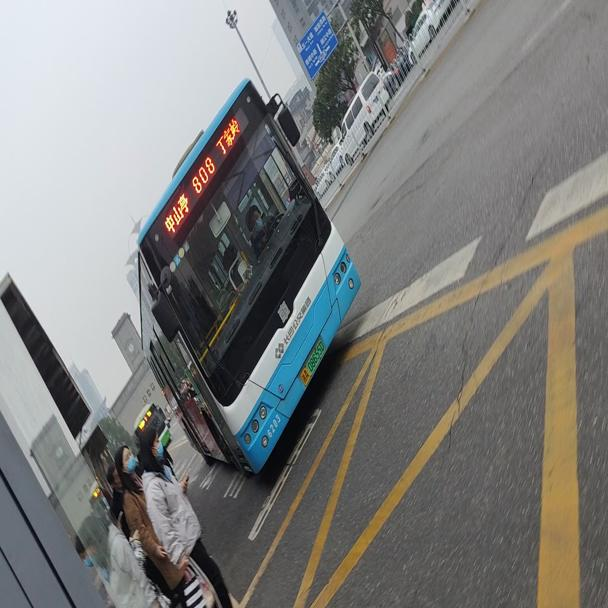bus: (134, 76, 360, 493), (137, 396, 170, 463)
screen: (190, 148, 216, 195)
